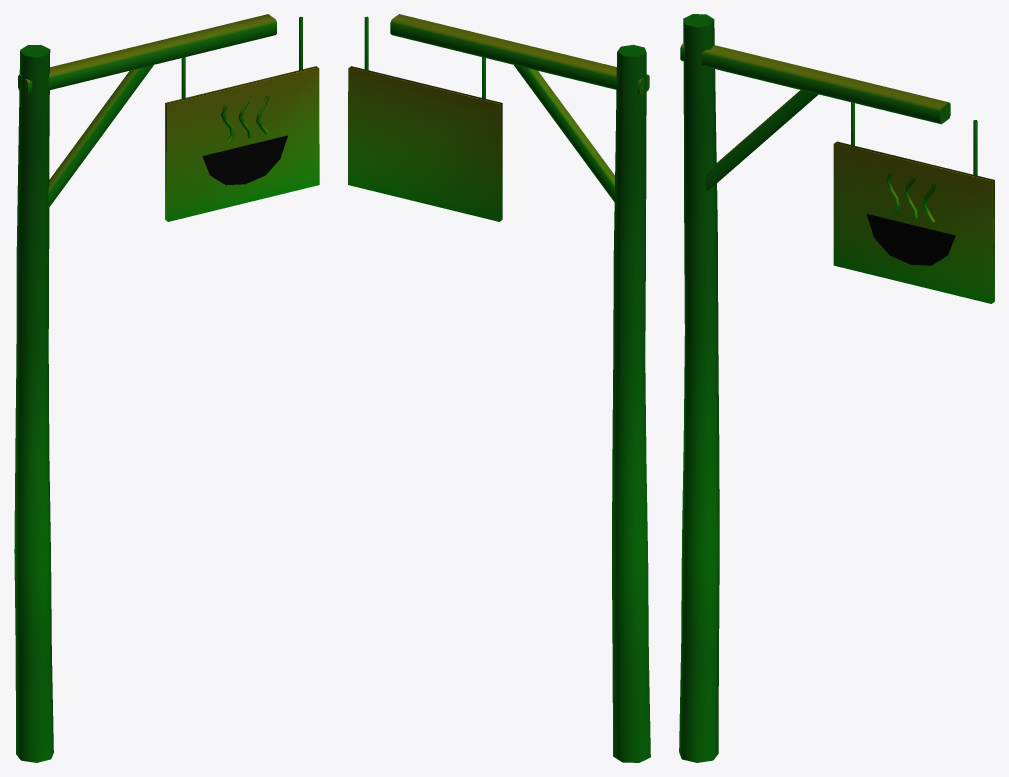
Rendered from shop_sign_inn.glb.
The picture shows the model from 3 angles, left to right: view 1: azimuth 30°, elevation 25°; view 2: azimuth 150°, elevation 25°; view 3: azimuth 330°, elevation 25°; orthographic projection. The views are drawn at different scales.
Visible parts, largest first — view 1: shop_sign_inn; view 2: shop_sign_inn; view 3: shop_sign_inn.
Boxes of the visible parts, x1=… form: shop_sign_inn: x1=14, y1=14, x2=319, y2=762; shop_sign_inn: x1=348, y1=14, x2=650, y2=762; shop_sign_inn: x1=679, y1=14, x2=994, y2=762.
Size of what is drawn, in the model's own units: 1.2 by 2.7 by 0.1407.
